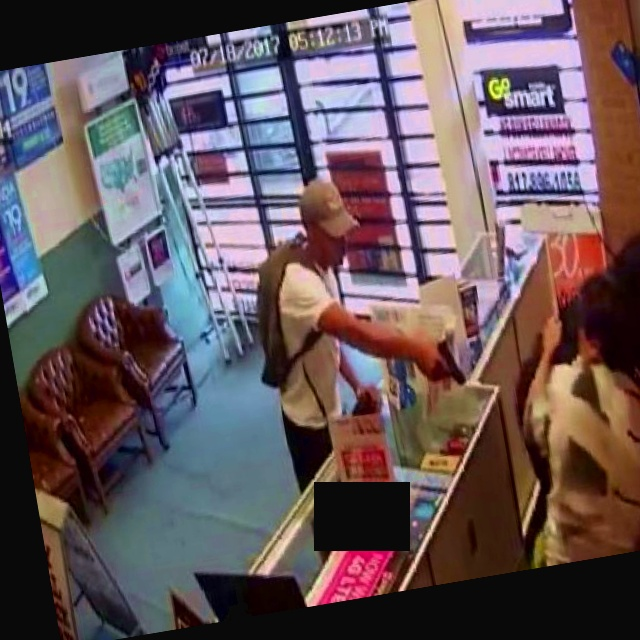gun: (417, 335, 469, 394)
